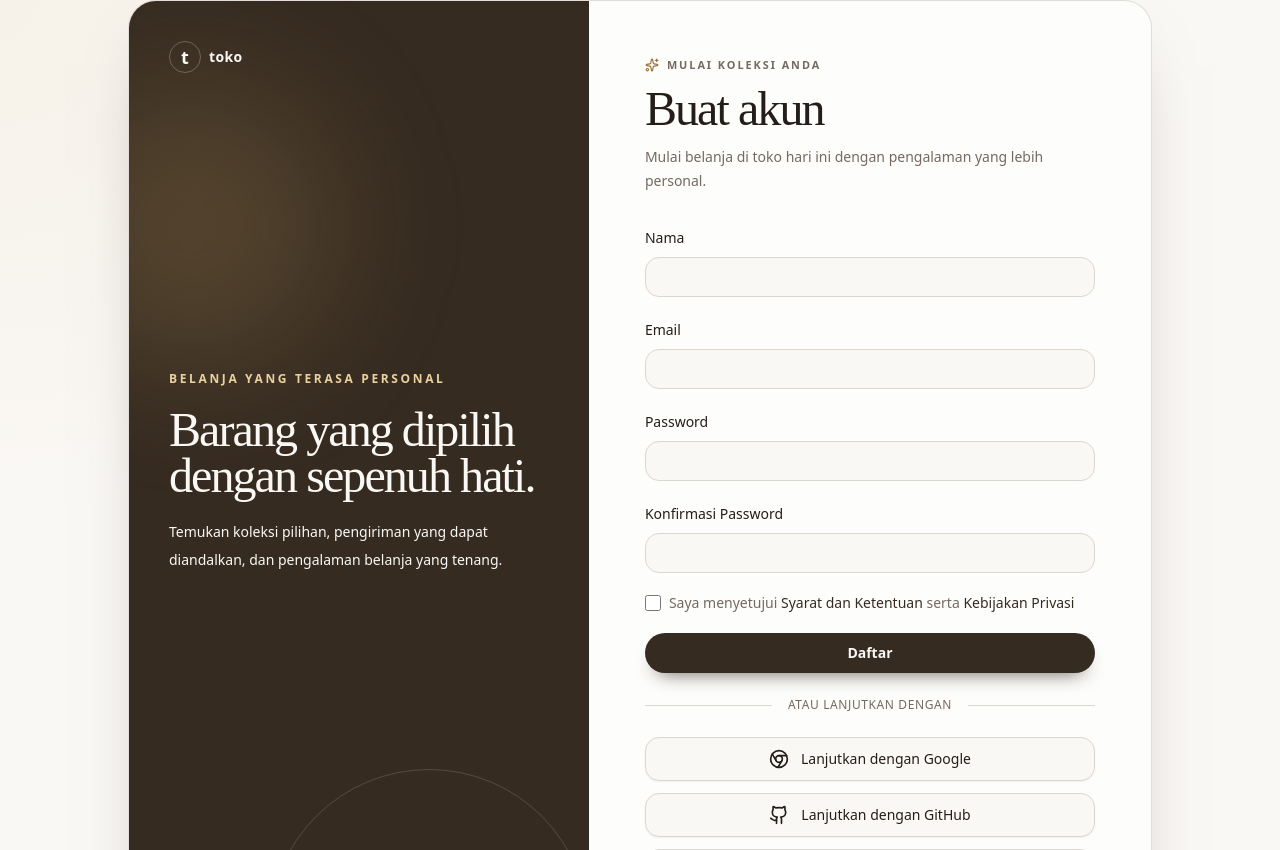
Scenario: RegisterPage › displays error message on registration failure
Expected: the heading "Buat akun" is shown, [645,82,824,135]
Type "John Doe" into the field labelled "Nama". click: [870, 277]
box: [645,257,1095,297]
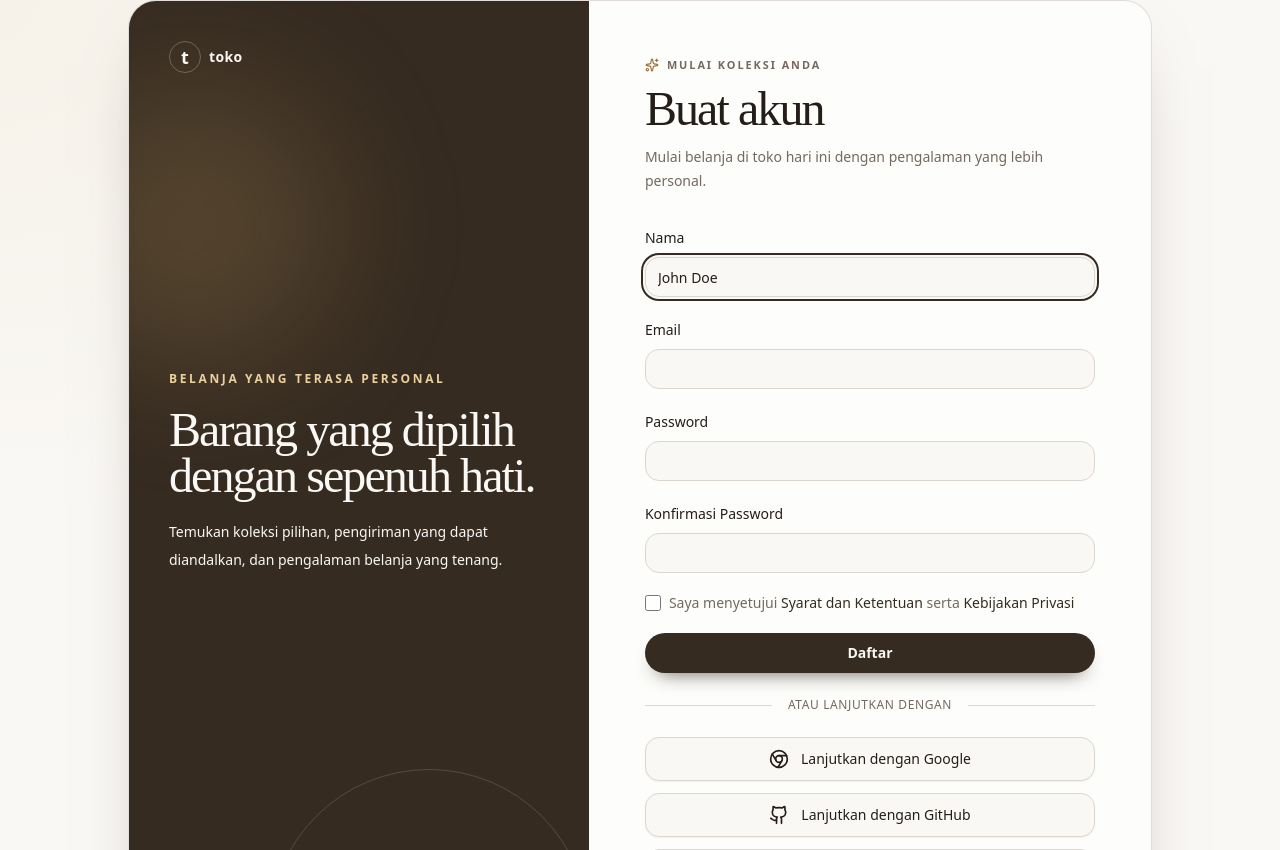
Type "john@example.com" into the field labelled "Email". click: [870, 369]
box: [645,349,1095,389]
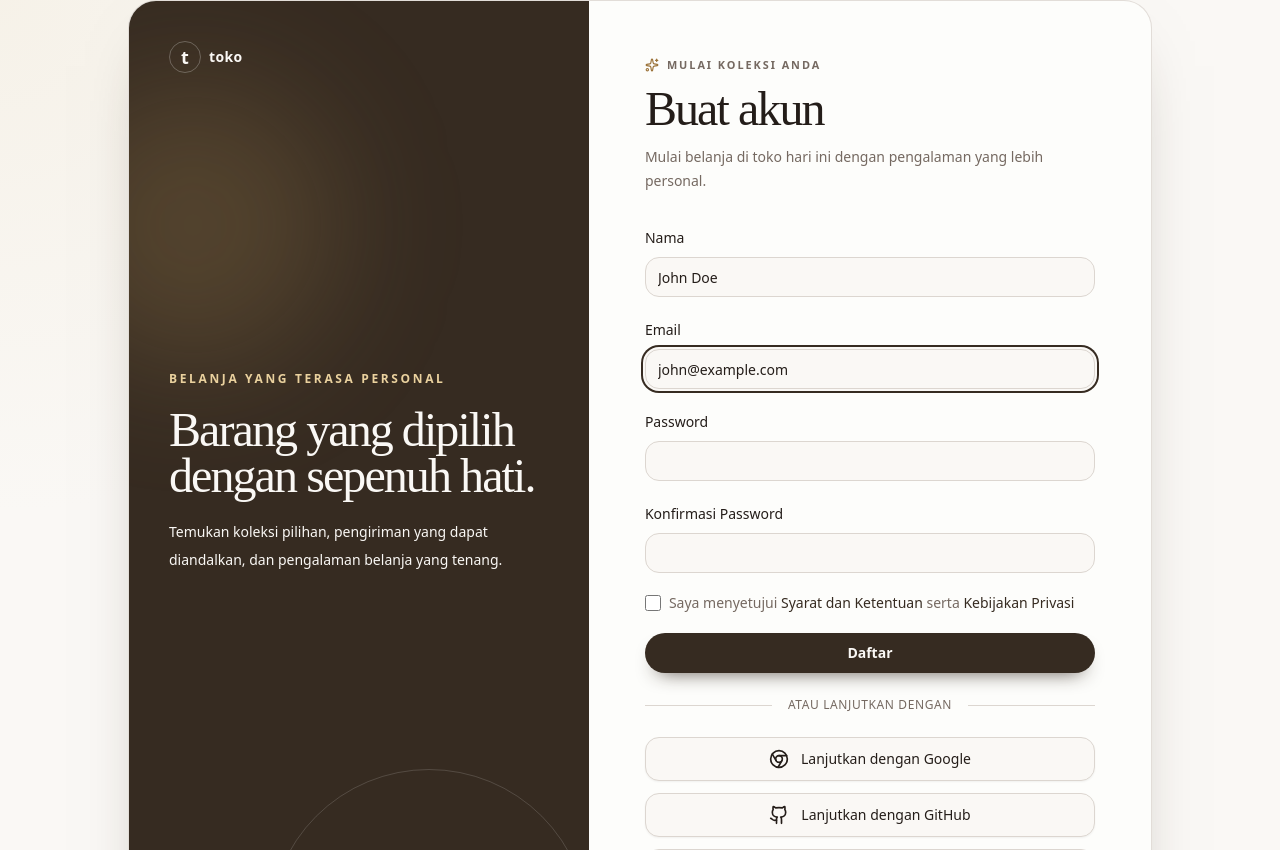
Type "SecurePass123" into the password field labelled "Password". click: [870, 461]
box: [645,441,1095,481]
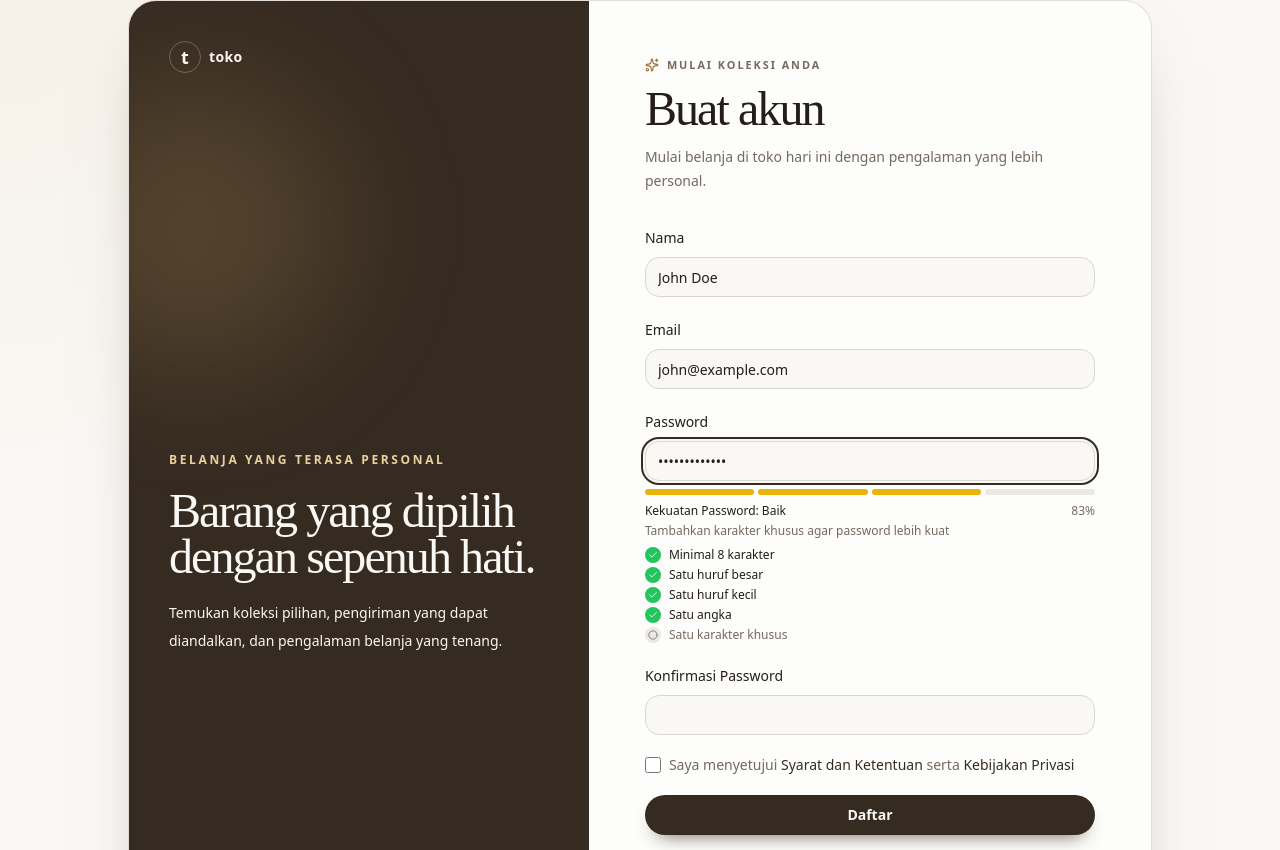
Type "SecurePass123" into the password field labelled "Konfirmasi Password". click: [870, 715]
box: [645,695,1095,735]
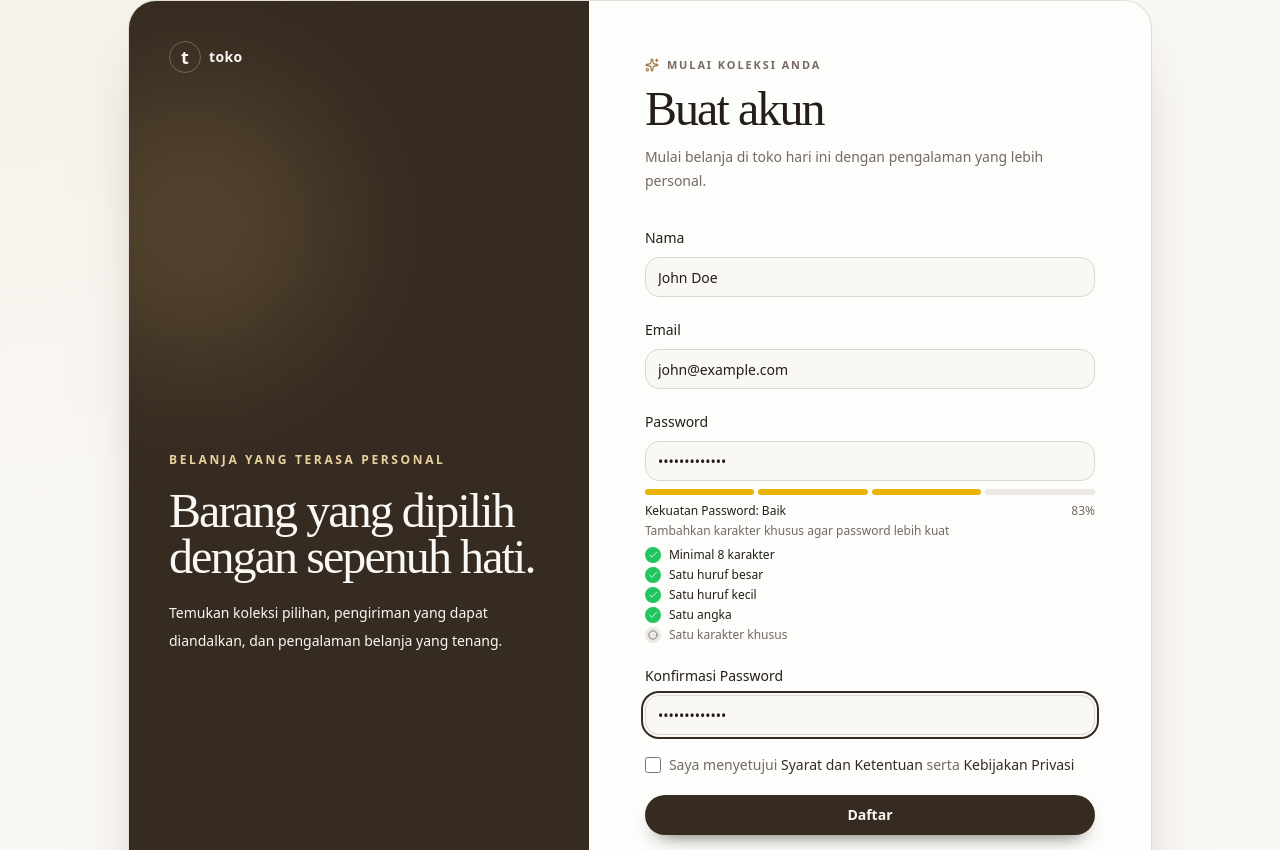
Click the checkbox. click: [653, 765]
box: [645,757,661,773]
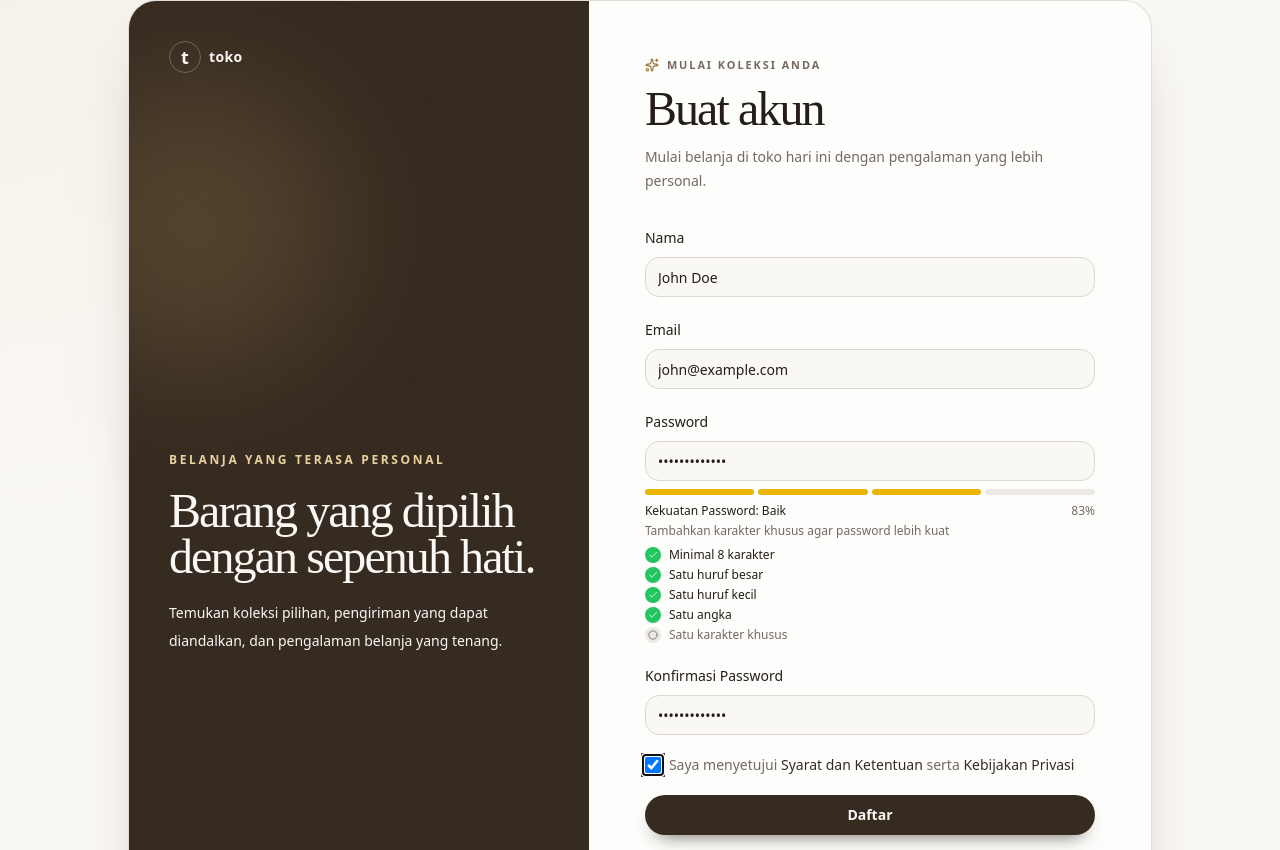
Click the button "Daftar". click: [870, 815]
box: [645,795,1095,835]
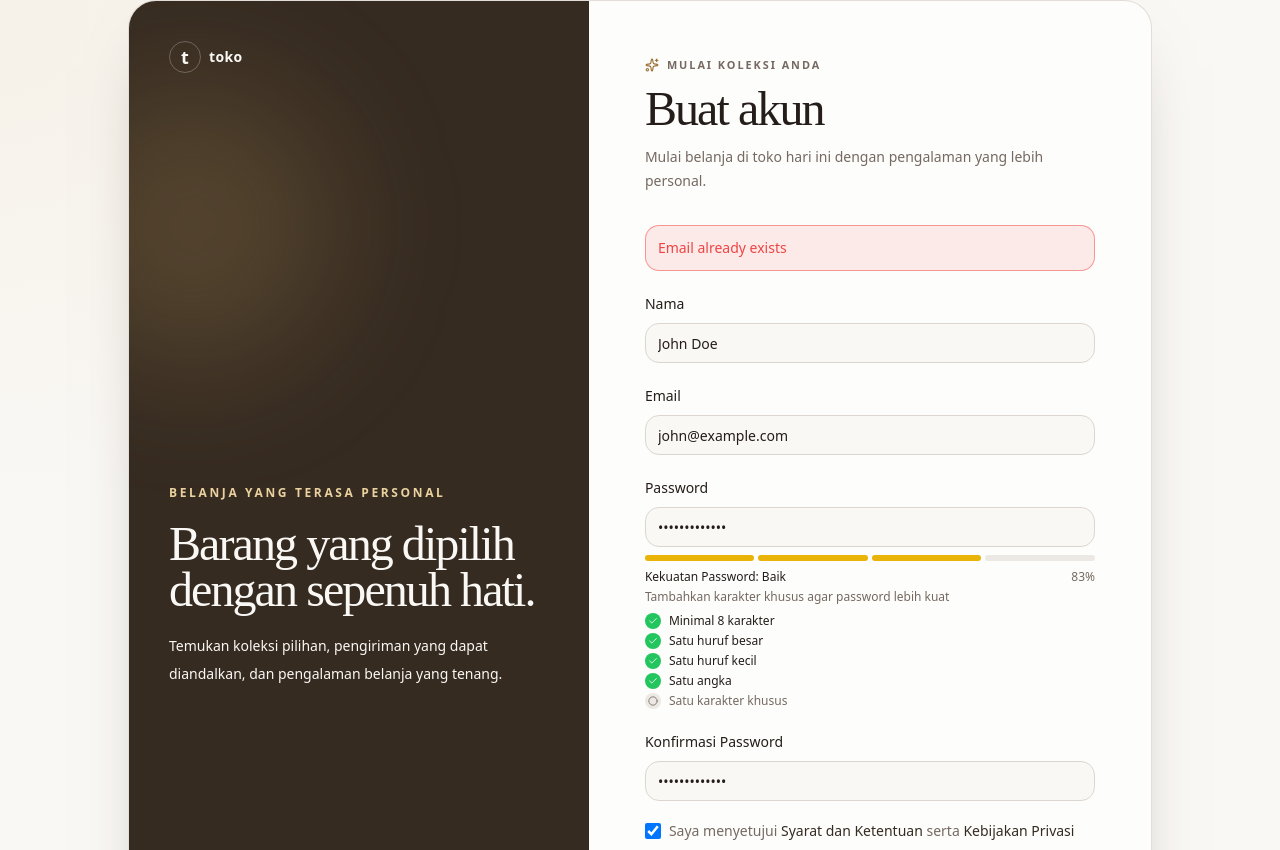
Now the message reads "Email already exists", box [658,238,787,257]
